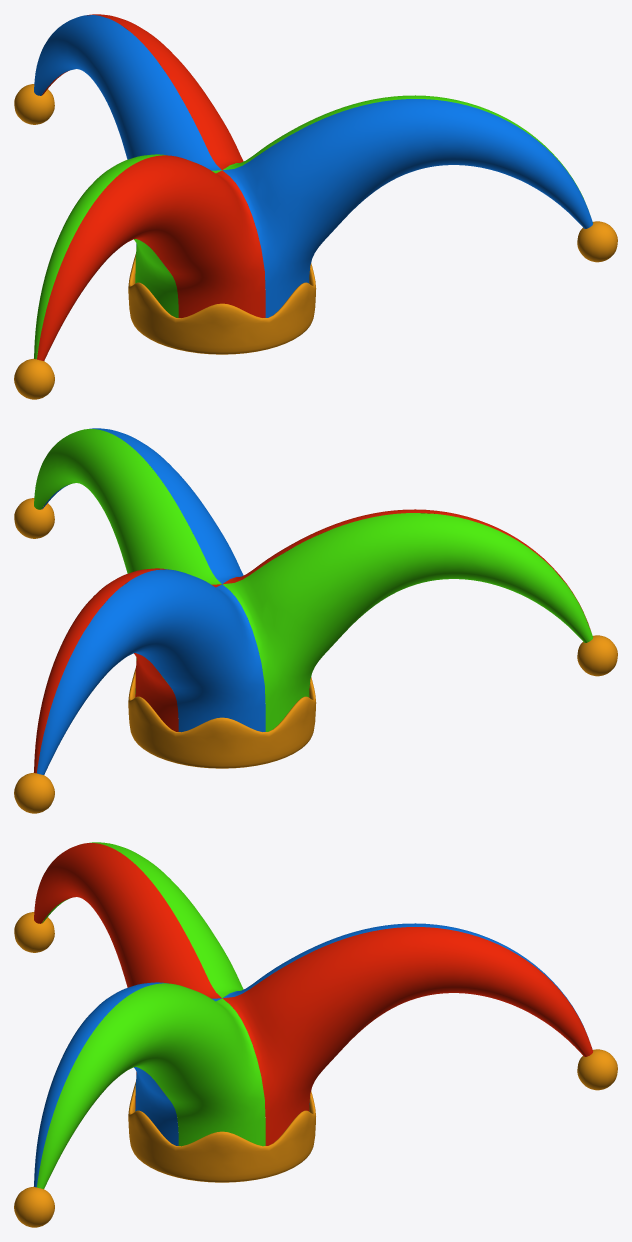
The model's file is clown-hat-compressed.glb.
The picture shows the model from 3 angles, top to bottom: view 1: azimuth 30°, elevation 25°; view 2: azimuth 150°, elevation 25°; view 3: azimuth 270°, elevation 25°; orthographic projection.
Visible parts, largest first — view 1: Object_6, Object_4, Object_8, Object_5; view 2: Object_5, Object_6, Object_8, Object_4; view 3: Object_4, Object_5, Object_8, Object_6.
Part boxes in pixels (box(x1,y1,x2,y2)): Object_6: box(34, 15, 592, 317); Object_4: box(37, 14, 265, 360); Object_8: box(14, 84, 617, 399); Object_5: box(34, 95, 583, 359); Object_5: box(34, 429, 592, 731); Object_6: box(37, 428, 265, 774); Object_8: box(14, 498, 617, 813); Object_4: box(34, 509, 590, 773); Object_4: box(34, 843, 592, 1145); Object_5: box(36, 842, 265, 1188); Object_8: box(14, 912, 617, 1227); Object_6: box(34, 923, 586, 1187).
Size of the model in its own units: 11.14 by 3.87 by 9.73.
